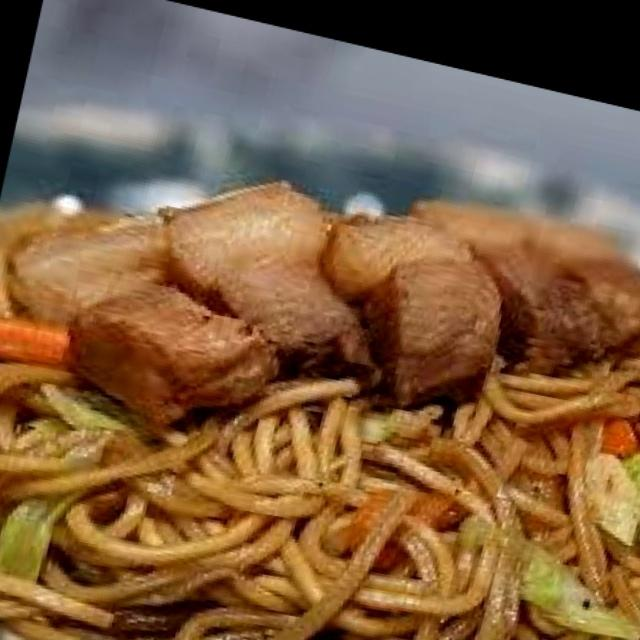pancit bihon: (0, 346, 639, 639)
